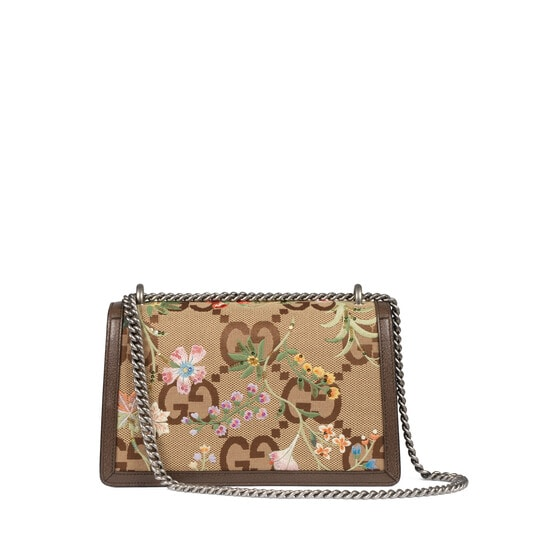Gucci: (77, 261, 435, 510), (213, 318, 296, 388), (155, 367, 224, 442), (281, 368, 349, 443)
